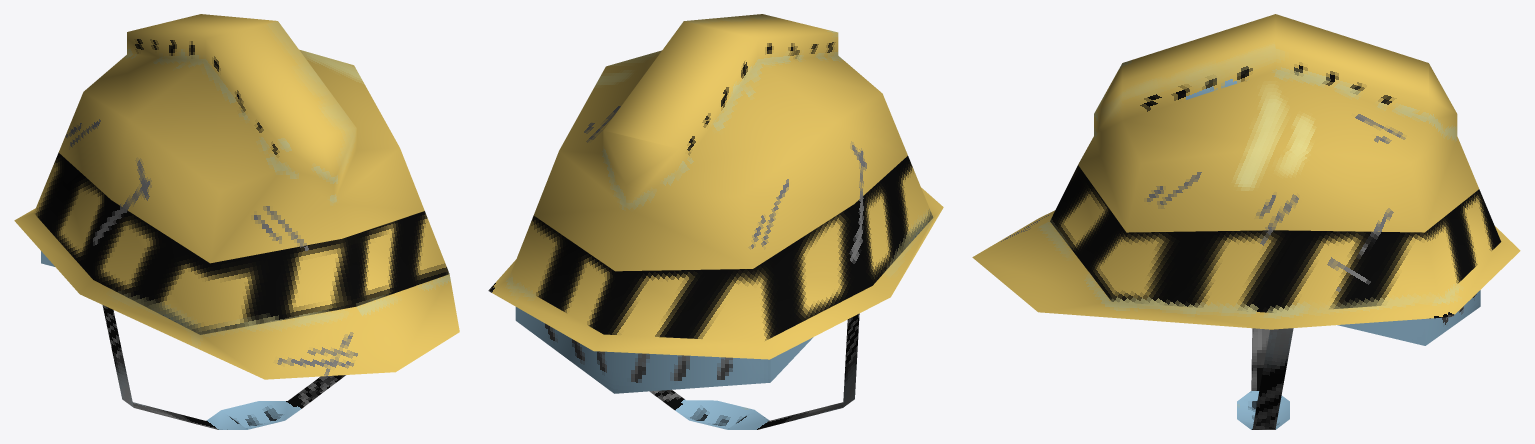
Rendered from emojis.gltf.
3 views of the same model, side by side, from view 1: azimuth 30°, elevation 25°; view 2: azimuth 150°, elevation 25°; view 3: azimuth 270°, elevation 25° (orthographic). The views are drawn at different scales.
Parts seen in each view (by area): view 1: helmet; view 2: helmet; view 3: helmet.
Part boxes in pixels (x1,y1,x2,y2): helmet: (14, 14, 459, 429); helmet: (488, 14, 943, 429); helmet: (972, 14, 1520, 429).
Size of the model in its own units: 1.39 by 1.59 by 2.04.
Materials: 1 (1 with a texture image).
